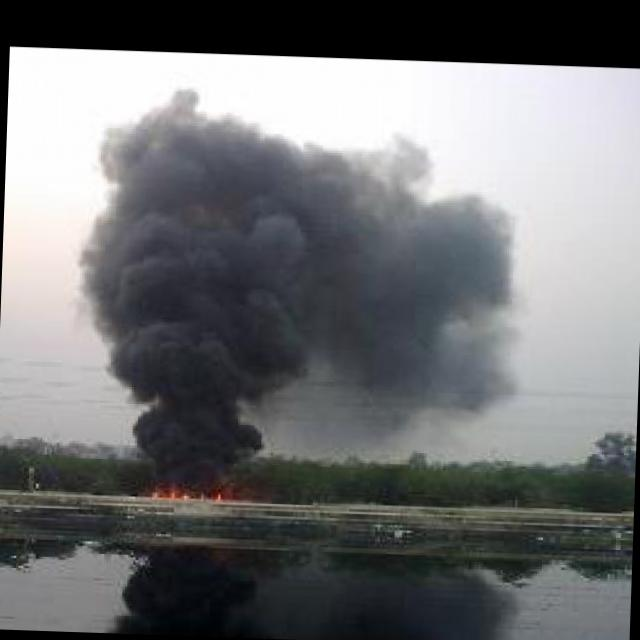fire: (145, 484, 223, 502)
smoke: (78, 100, 530, 483)
